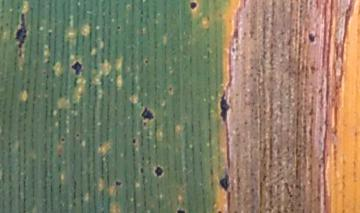tarspot: (12, 12, 29, 57), (218, 89, 229, 123), (218, 172, 232, 191), (141, 107, 155, 122), (70, 60, 83, 76), (153, 166, 164, 178), (307, 31, 317, 44), (188, 1, 198, 11), (114, 179, 123, 187), (74, 131, 81, 139), (175, 208, 185, 213), (167, 85, 174, 92), (59, 136, 66, 142), (139, 167, 145, 174), (142, 58, 149, 64), (131, 138, 137, 144), (115, 24, 120, 31), (216, 209, 222, 213)
